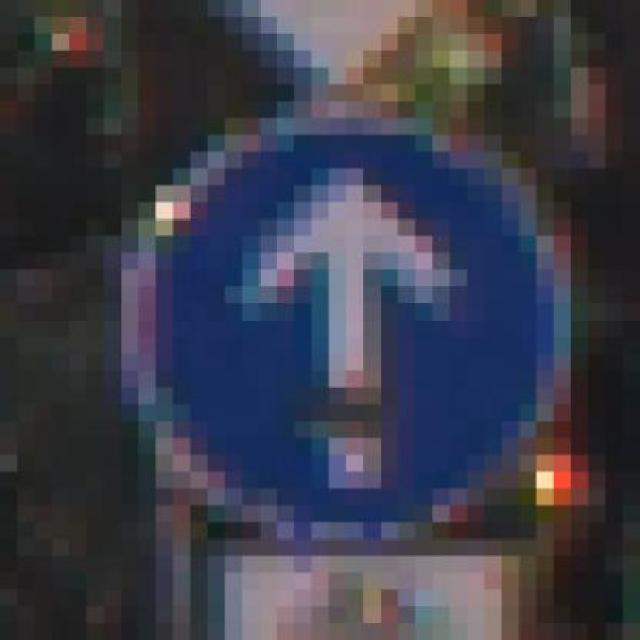Straight Ahead Only: (121, 118, 588, 573)
